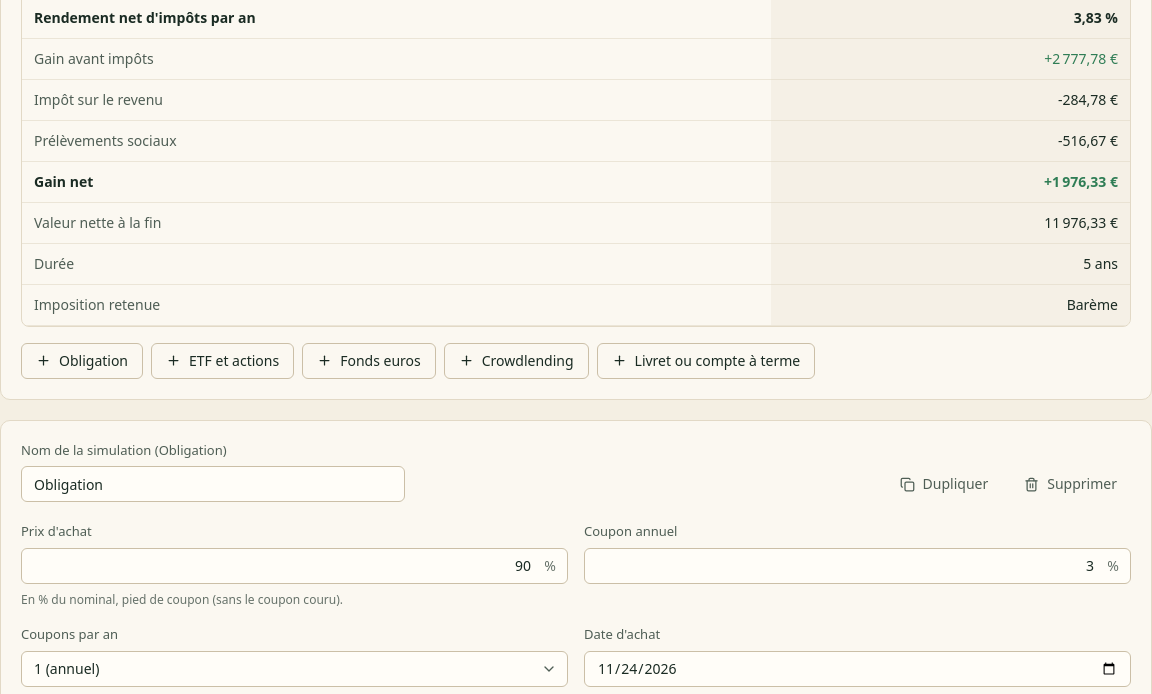
page Simulateurs › saisie au clavier : le champ garde le focus et le texte tapé
(page scrolled)
Click the button "ETF et actions". click: (223, 360)
box: left=151, top=342, right=294, bottom=378
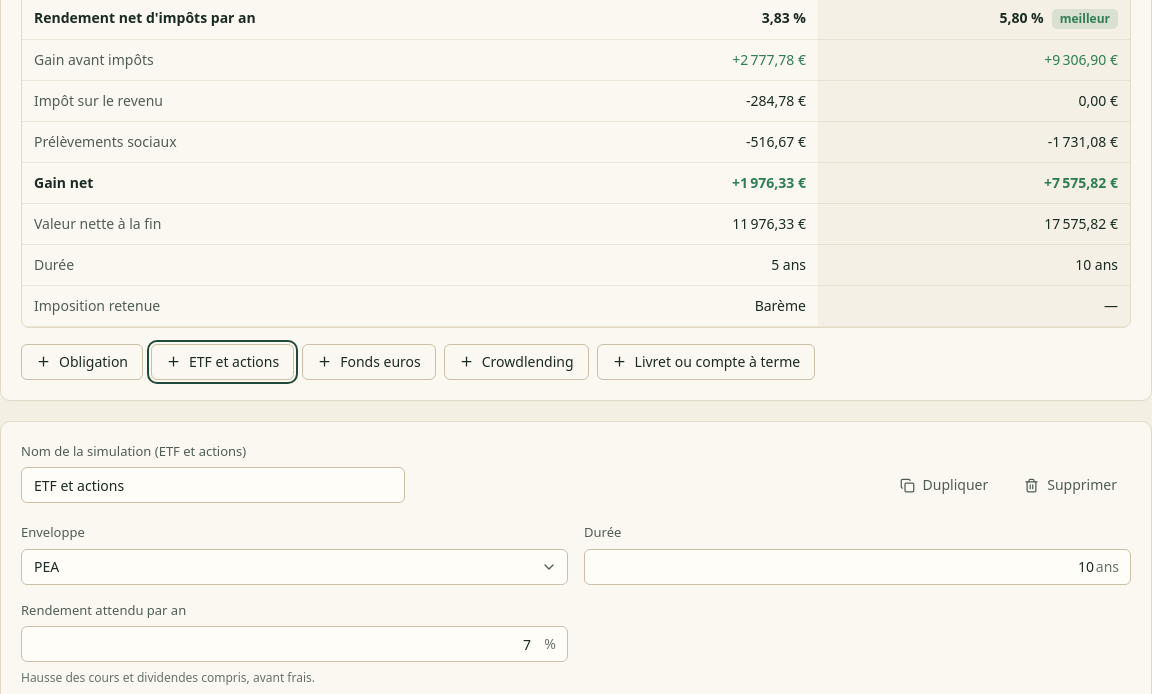
Click the field labelled "Durée". click: (858, 566)
box: left=584, top=548, right=1131, bottom=584
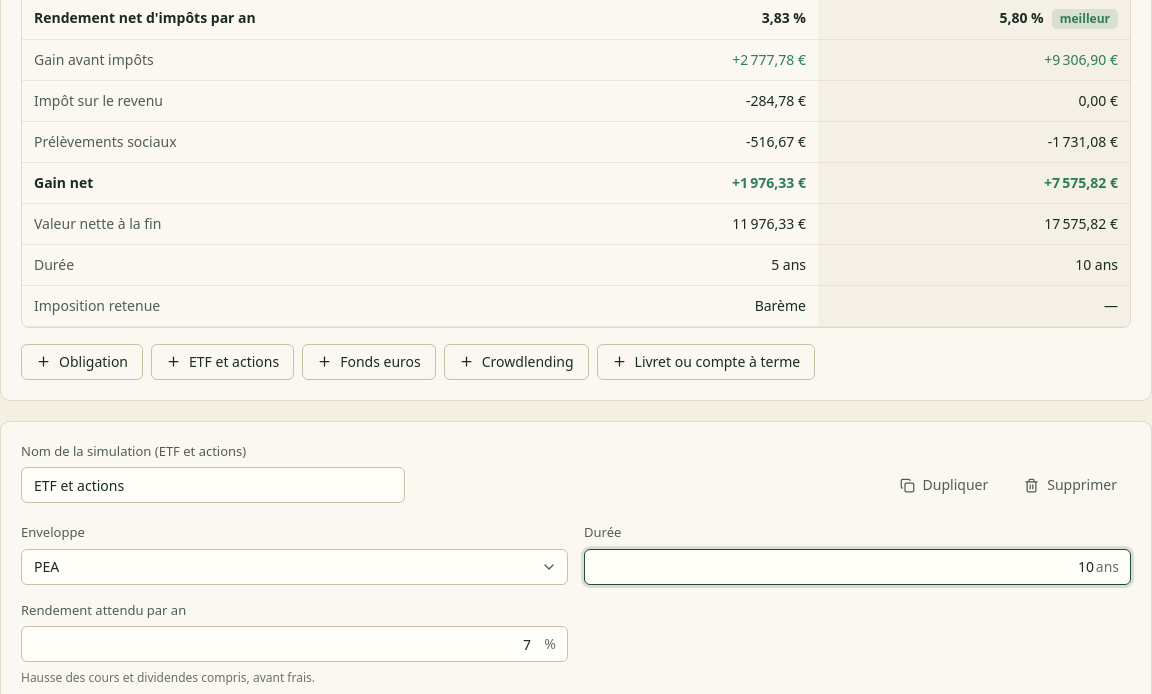
Type keys "{End}{Backspace}{Backspace}15"
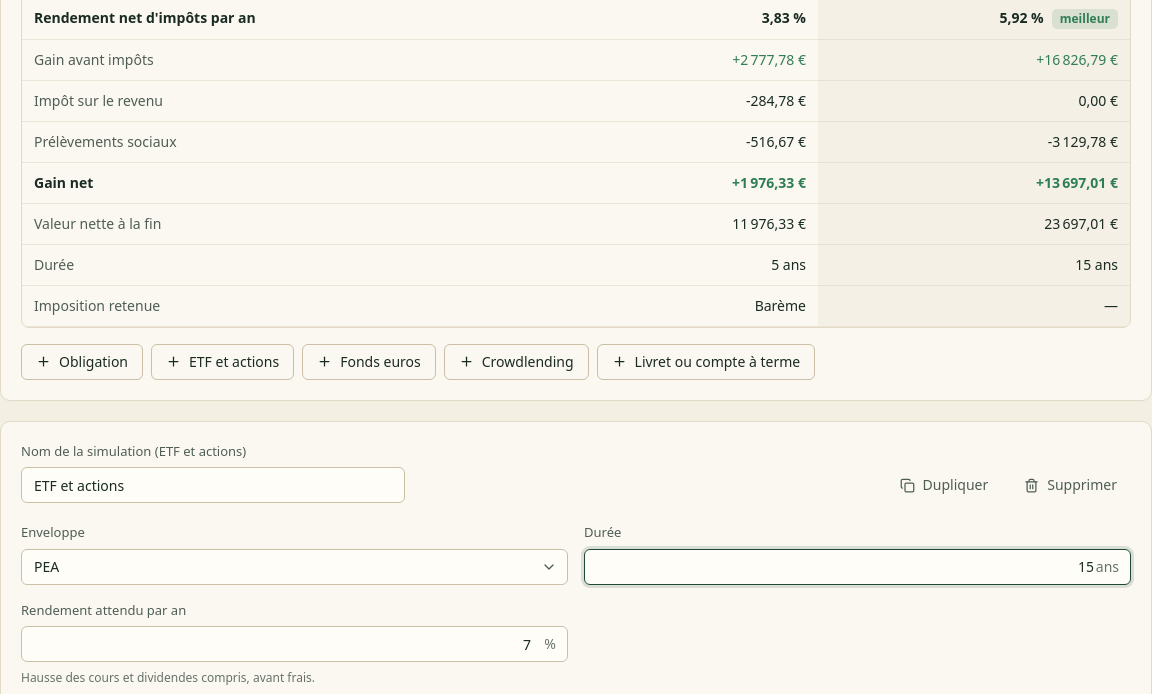
Now the field labelled "Durée" holds "15", box left=584, top=548, right=1131, bottom=584
